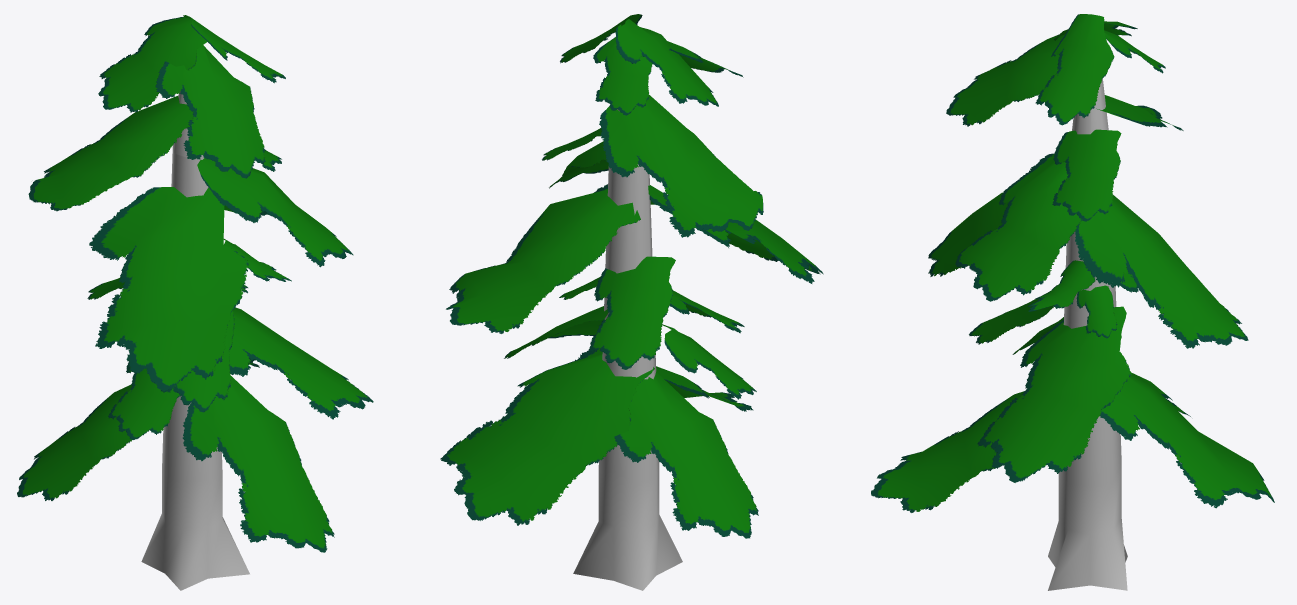
The model's file is FBX_Tree_Tall.fbx.
The picture shows the model from 3 angles, left to right: view 1: azimuth 30°, elevation 25°; view 2: azimuth 150°, elevation 25°; view 3: azimuth 270°, elevation 25°; orthographic projection.
Parts seen in each view (by area): view 1: Plane008, Plane001, Cylinder001, Plane005, Plane012, Plane004, Plane003, Plane007, Plane016, Plane011, Plane010, Plane014 (+1 smaller); view 2: Plane002, Cylinder001, Plane006, Plane003, Plane005, Plane009, Plane016, Plane008, Plane015, Plane011, Plane004, Plane001 (+4 smaller); view 3: Plane004, Cylinder001, Plane006, Plane007, Plane002, Plane001, Plane014, Plane013, Plane012, Plane008, Plane017, Plane018 (+3 smaller).
Part boxes in pixels (left/top/right/bottom): Plane008: left=89, top=187, right=248, bottom=391; Plane001: left=182, top=376, right=334, bottom=552; Cylinder001: left=141, top=91, right=249, bottom=590; Plane005: left=28, top=96, right=193, bottom=211; Plane012: left=155, top=45, right=265, bottom=178; Plane004: left=229, top=307, right=373, bottom=419; Plane003: left=17, top=384, right=132, bottom=500; Plane007: left=197, top=158, right=353, bottom=267; Plane016: left=98, top=16, right=207, bottom=112; Plane011: left=108, top=362, right=180, bottom=439; Plane010: left=160, top=310, right=234, bottom=412; Plane014: left=183, top=15, right=285, bottom=83; Plane002: left=440, top=348, right=654, bottom=525; Cylinder001: left=573, top=109, right=682, bottom=590; Plane006: left=446, top=184, right=640, bottom=333; Plane003: left=614, top=372, right=758, bottom=538; Plane005: left=599, top=95, right=763, bottom=237; Plane009: left=588, top=256, right=675, bottom=369; Plane016: left=615, top=19, right=718, bottom=106; Plane008: left=648, top=185, right=823, bottom=283; Plane015: left=593, top=37, right=652, bottom=115; Plane011: left=662, top=324, right=756, bottom=399; Plane004: left=504, top=306, right=608, bottom=358; Plane001: left=656, top=366, right=753, bottom=411; Plane004: left=977, top=306, right=1131, bottom=482; Cylinder001: left=1048, top=78, right=1127, bottom=590; Plane006: left=1074, top=195, right=1248, bottom=348; Plane007: left=955, top=153, right=1081, bottom=301; Plane002: left=1100, top=373, right=1274, bottom=508; Plane001: left=871, top=391, right=1023, bottom=512; Plane014: left=1035, top=14, right=1114, bottom=125; Plane013: left=1052, top=129, right=1121, bottom=221; Plane012: left=946, top=34, right=1065, bottom=126; Plane008: left=928, top=192, right=1008, bottom=276; Plane017: left=1028, top=260, right=1095, bottom=311; Plane018: left=1076, top=285, right=1117, bottom=338.
Size of the model in its own units: 259 by 388 by 261.
